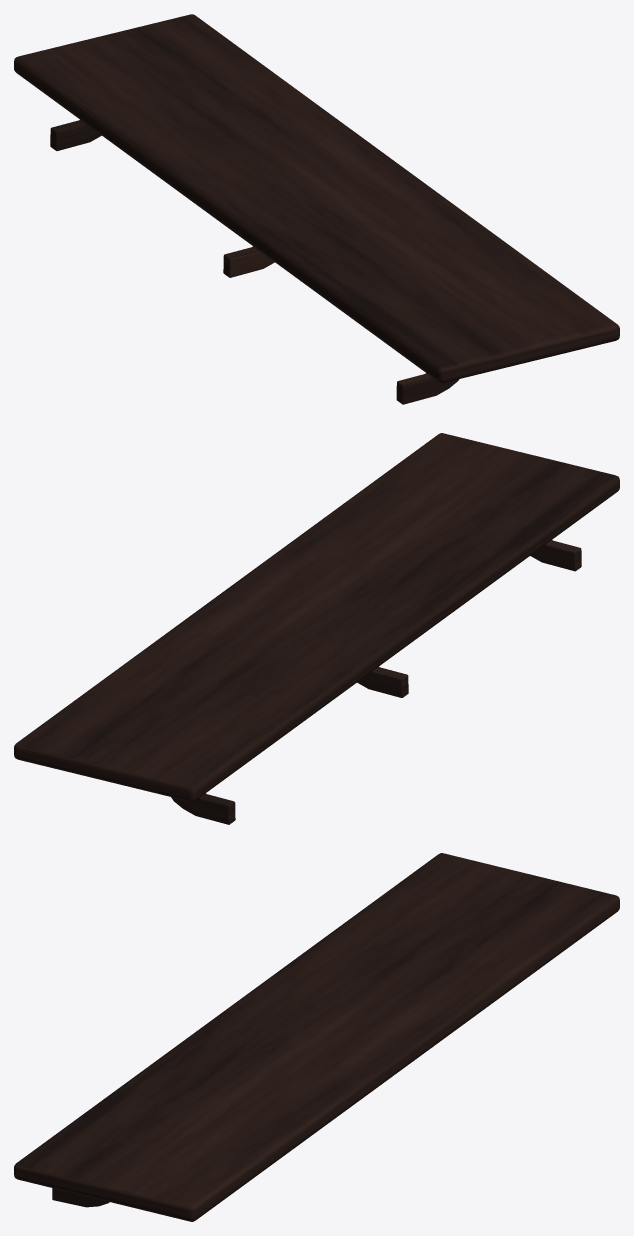
Rendered from Wandregal.glb.
3 renders of one model, top to bottom at view 1: azimuth 30°, elevation 25°; view 2: azimuth 150°, elevation 25°; view 3: azimuth 330°, elevation 25°, orthographic.
Parts seen in each view (by area): view 1: Regal, Halterung; view 2: Regal, Halterung; view 3: Regal, Halterung.
Boxes of the visible parts, left/top/right/bottom form: Regal: left=14, top=14, right=619, bottom=382; Halterung: left=50, top=120, right=459, bottom=404; Regal: left=14, top=433, right=619, bottom=801; Halterung: left=171, top=540, right=581, bottom=824; Regal: left=14, top=853, right=619, bottom=1221; Halterung: left=52, top=1188, right=109, bottom=1207.
Size of the model in its own units: 11.09 by 3.76 by 45.15.
1 material, 1 textured.
